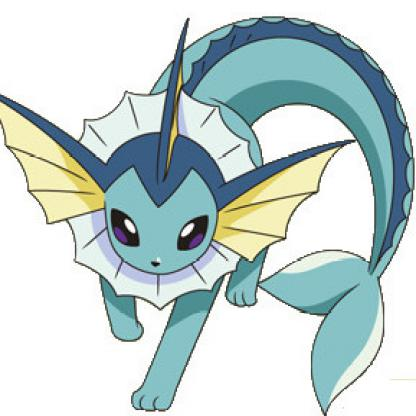Vaporeon: (1, 7, 416, 415)
